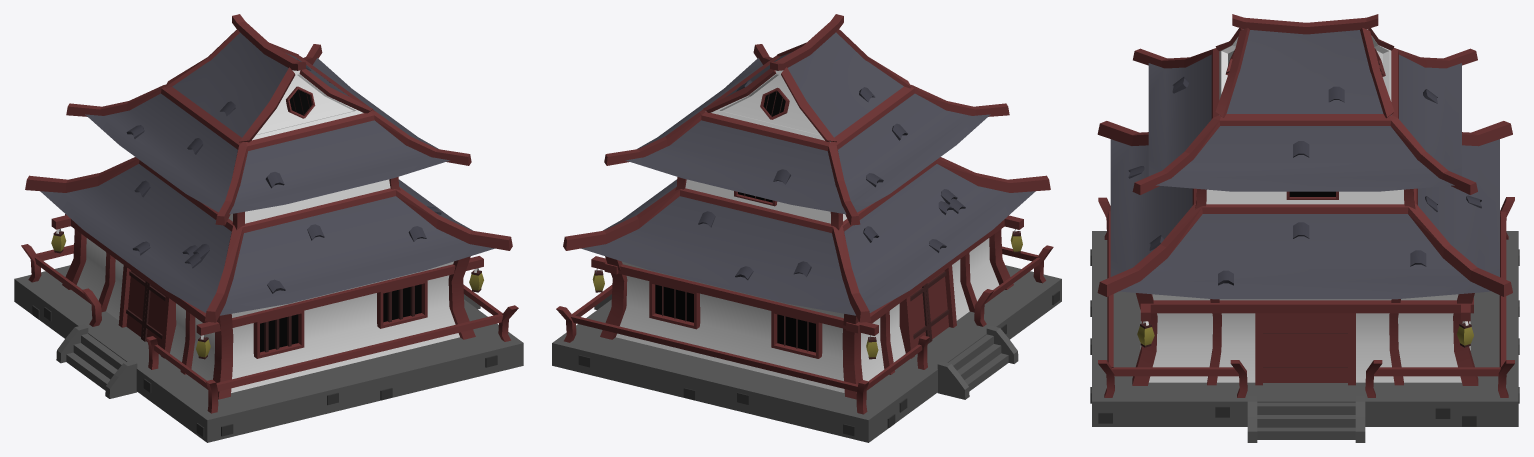
Rendered from JapanHouse.fbx.
The picture shows the model from 3 angles, left to right: view 1: azimuth 30°, elevation 25°; view 2: azimuth 150°, elevation 25°; view 3: azimuth 270°, elevation 25°; orthographic projection. The views are drawn at different scales.
Visible parts, largest first — view 1: Box002; view 2: Box002; view 3: Box002.
Part boxes in pixels (x1,y1,x2,y2): Box002: (14,14,523,442); Box002: (552,14,1061,442); Box002: (1090,14,1519,442).
Size of the model in its own units: 1508 by 1149 by 1369.
